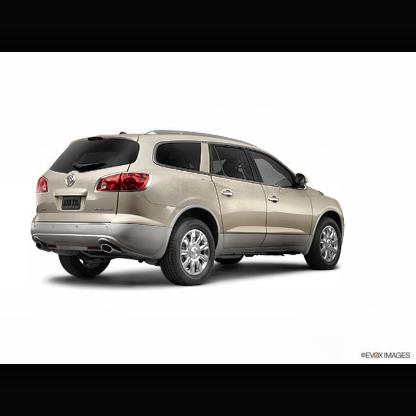Buick Enclave SUV 2012: (31, 130, 347, 287)
